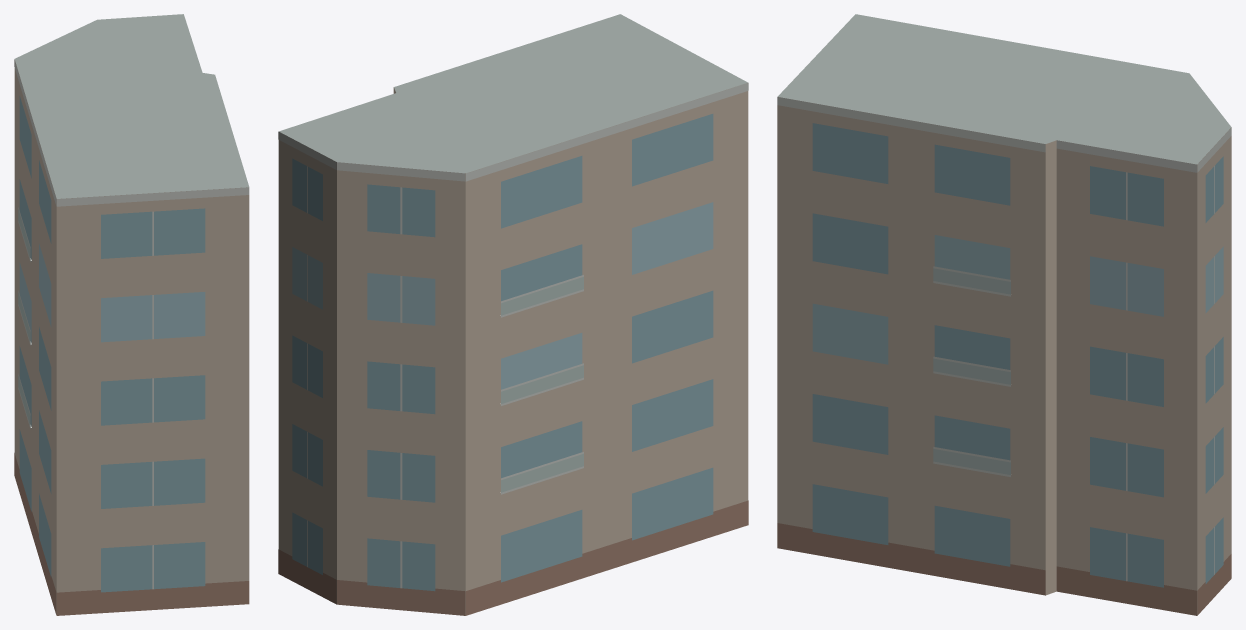
The model's file is survey-upis-33047226.glb.
3 renders of one model, left to right at view 1: azimuth 30°, elevation 25°; view 2: azimuth 150°, elevation 25°; view 3: azimuth 270°, elevation 25°, orthographic. The views are drawn at different scales.
Parts seen in each view (by area): view 1: survey-upis-33047226.tmp; view 2: survey-upis-33047226.tmp; view 3: survey-upis-33047226.tmp.
Boxes of the visible parts, x1=… form: survey-upis-33047226.tmp: x1=14, y1=14, x2=249, y2=615; survey-upis-33047226.tmp: x1=278, y1=14, x2=748, y2=615; survey-upis-33047226.tmp: x1=777, y1=14, x2=1231, y2=615.
Size of the model in its own units: 9.45 by 13.2 by 12.05.
